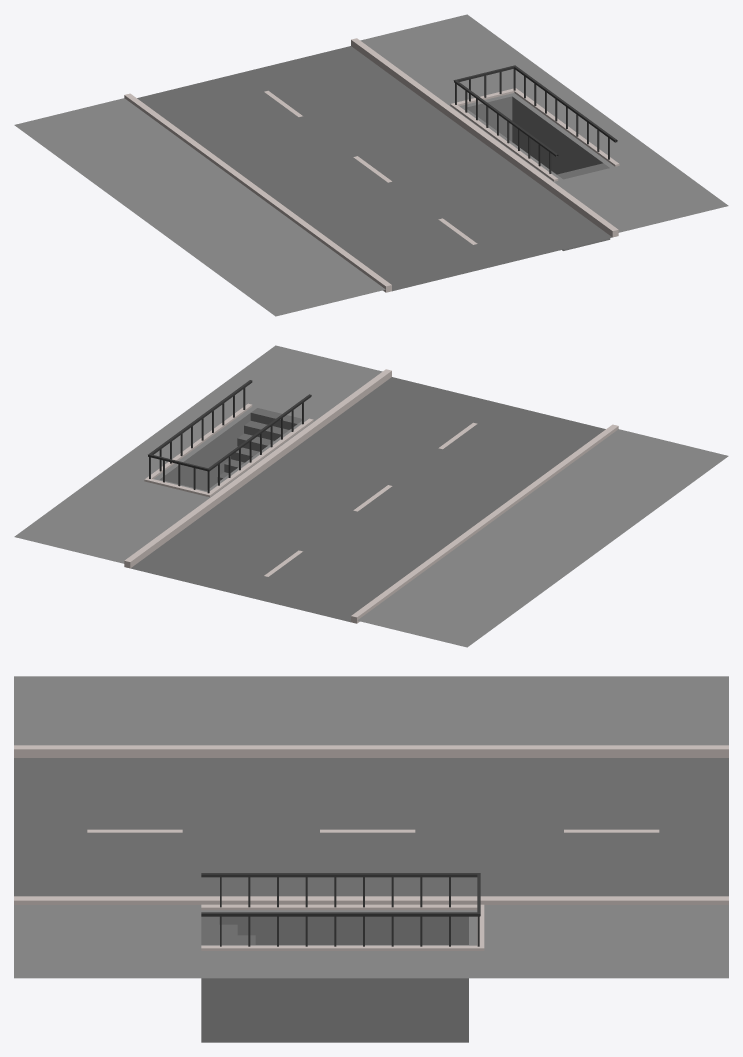
The model's file is Stairs through basement.fbx.
3 views of the same model, one above another, from view 1: azimuth 30°, elevation 25°; view 2: azimuth 150°, elevation 25°; view 3: azimuth 270°, elevation 25° (orthographic). The views are drawn at different scales.
Visible parts, largest first — view 1: through the basement; view 2: through the basement; view 3: through the basement.
Part boxes in pixels (left/top/right/bottom): through the basement: left=14, top=14, right=728, bottom=316; through the basement: left=14, top=345, right=728, bottom=647; through the basement: left=14, top=676, right=728, bottom=1042.
Size of the model in its own units: 1500 by 309 by 1500.
